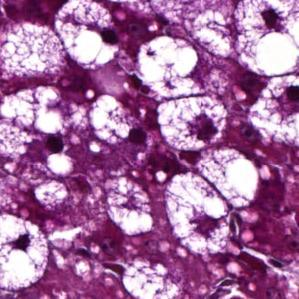ballooning: (162, 170, 238, 259), (228, 0, 299, 78), (54, 2, 122, 72), (154, 93, 229, 154), (0, 208, 51, 293), (135, 34, 199, 87)
